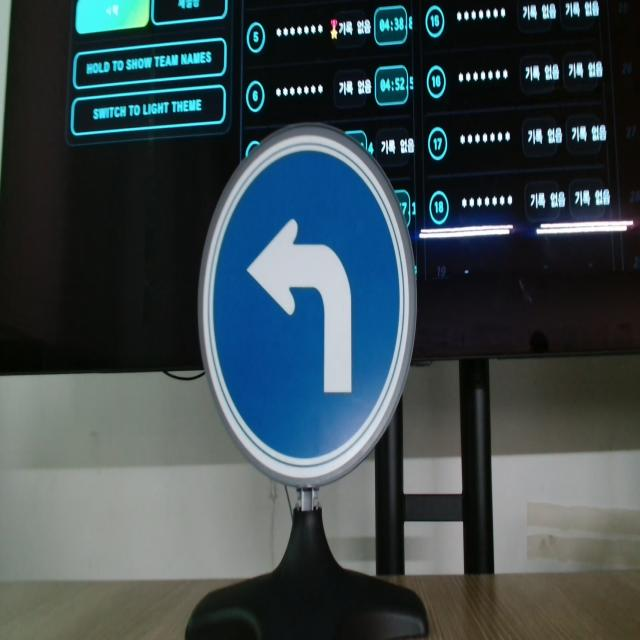left_direction: (192, 123, 413, 495)
